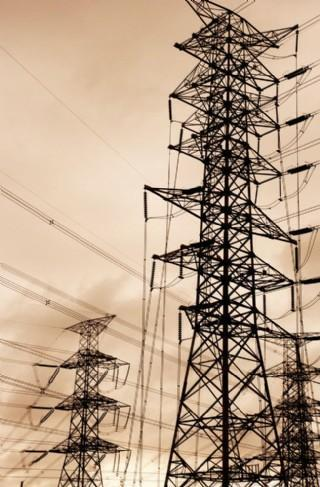power_tower: (155, 0, 294, 487), (34, 295, 137, 487)
